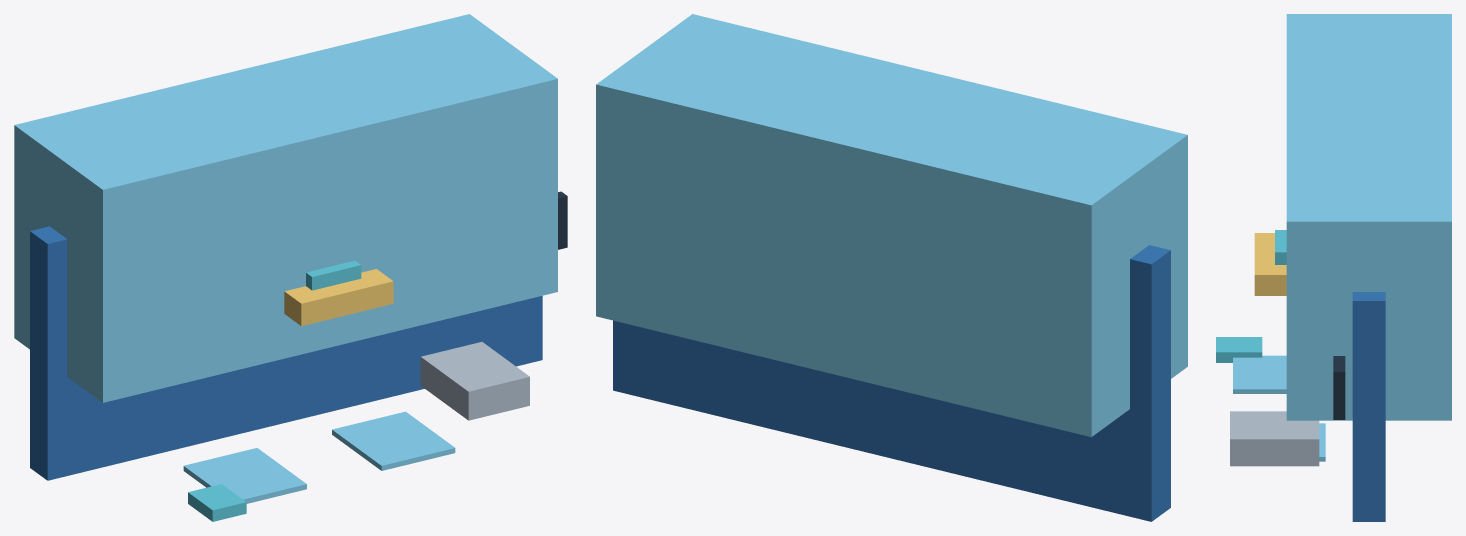
The model's file is tray-erector.gltf.
The picture shows the model from 3 angles, left to right: view 1: azimuth 30°, elevation 25°; view 2: azimuth 150°, elevation 25°; view 3: azimuth 270°, elevation 25°; orthographic projection. The views are drawn at different scales.
Visible parts, largest first — view 1: Machine envelope, Base frame, Electrical cabinet, Service door B, Service door A, Product tooling, Control panel, Pneumatic manifold; view 2: Machine envelope, Base frame; view 3: Machine envelope, Base frame, Electrical cabinet, Service door A, Product tooling, Control panel, Outfeed conveyor, Pneumatic manifold.
Part boxes in pixels (x1=…): Machine envelope: x1=14, y1=14, x2=557, y2=402; Base frame: x1=30, y1=226, x2=542, y2=480; Electrical cabinet: x1=420, y1=342, x2=529, y2=420; Service door B: x1=332, y1=411, x2=455, y2=470; Service door A: x1=183, y1=448, x2=306, y2=503; Product tooling: x1=284, y1=269, x2=393, y2=326; Control panel: x1=188, y1=484, x2=246, y2=521; Pneumatic manifold: x1=306, y1=260, x2=361, y2=290; Machine envelope: x1=596, y1=14, x2=1187, y2=437; Base frame: x1=613, y1=245, x2=1170, y2=521; Machine envelope: x1=1286, y1=14, x2=1451, y2=420; Base frame: x1=1352, y1=292, x2=1385, y2=521; Electrical cabinet: x1=1230, y1=411, x2=1319, y2=466; Service door A: x1=1233, y1=355, x2=1286, y2=393; Product tooling: x1=1254, y1=233, x2=1286, y2=295; Control panel: x1=1216, y1=337, x2=1262, y2=362; Outfeed conveyor: x1=1333, y1=356, x2=1345, y2=419; Pneumatic manifold: x1=1275, y1=230, x2=1286, y2=264.
Size of the model in its own units: 8.29 by 5.01 by 3.56.
